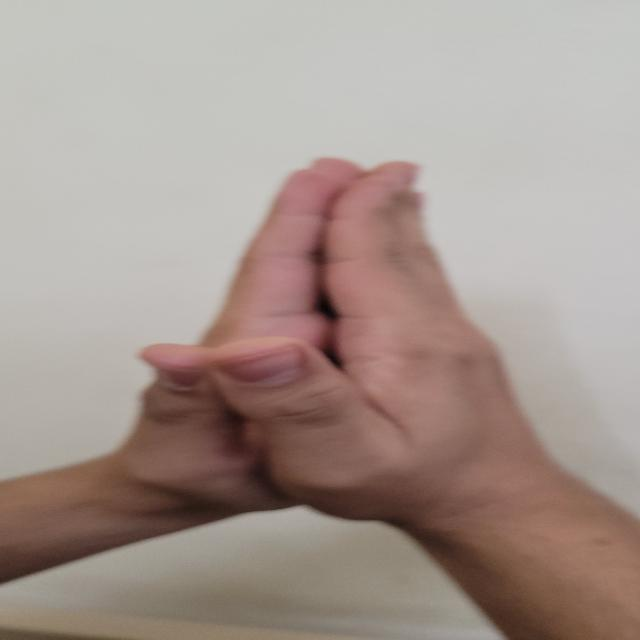Thank You: (64, 90, 597, 544)
